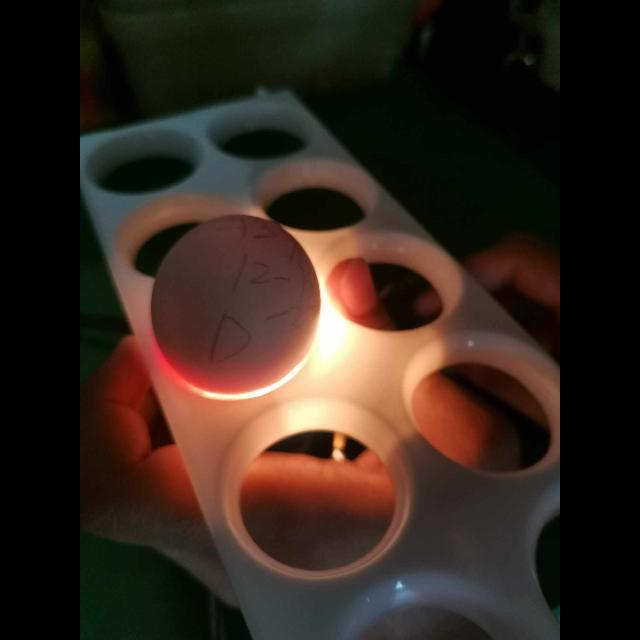Fertile: (150, 212, 322, 394)
